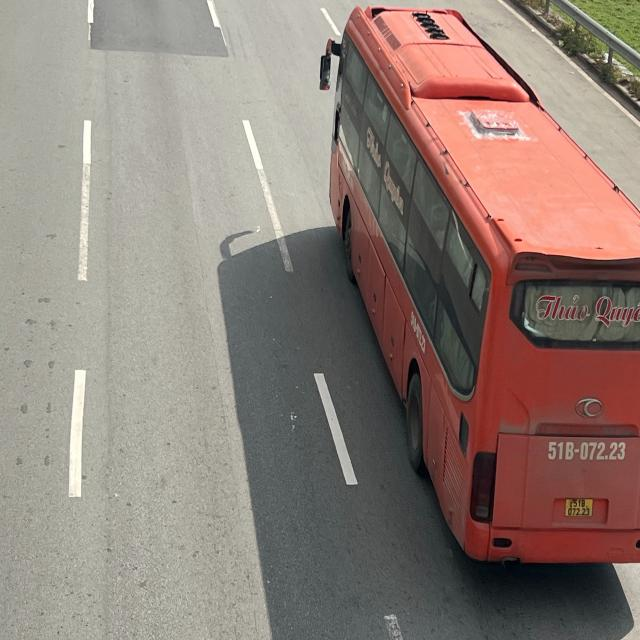coach: (320, 6, 635, 584)
